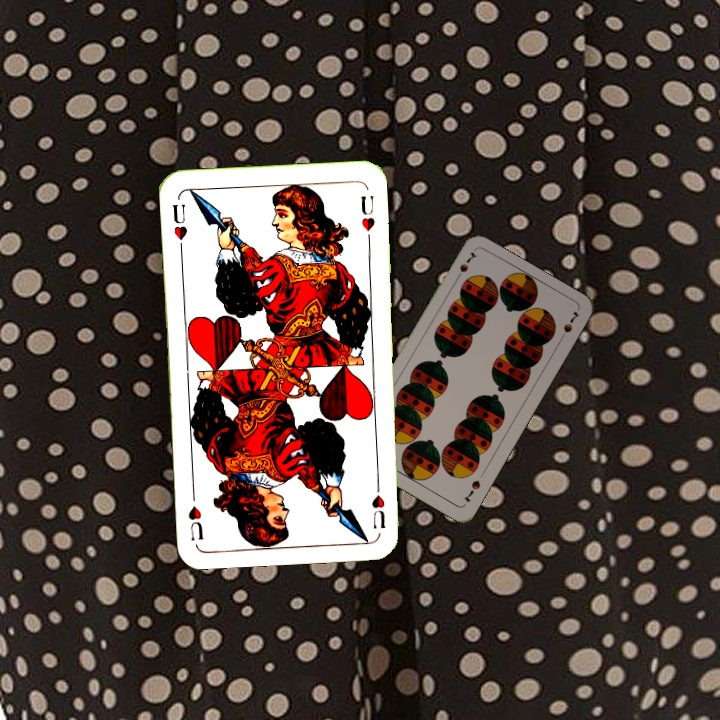HU: (168, 199, 190, 254), (367, 475, 388, 531)
S7: (451, 248, 480, 284), (460, 476, 483, 505)
